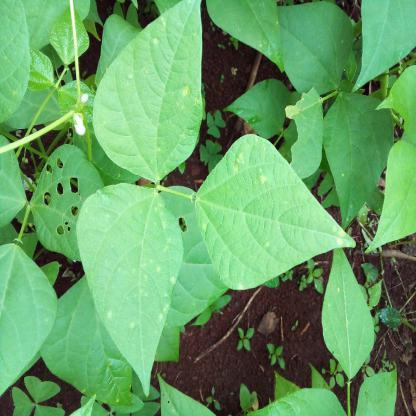Beans_Rust: (194, 134, 355, 292), (79, 183, 180, 392), (98, 0, 205, 178)
